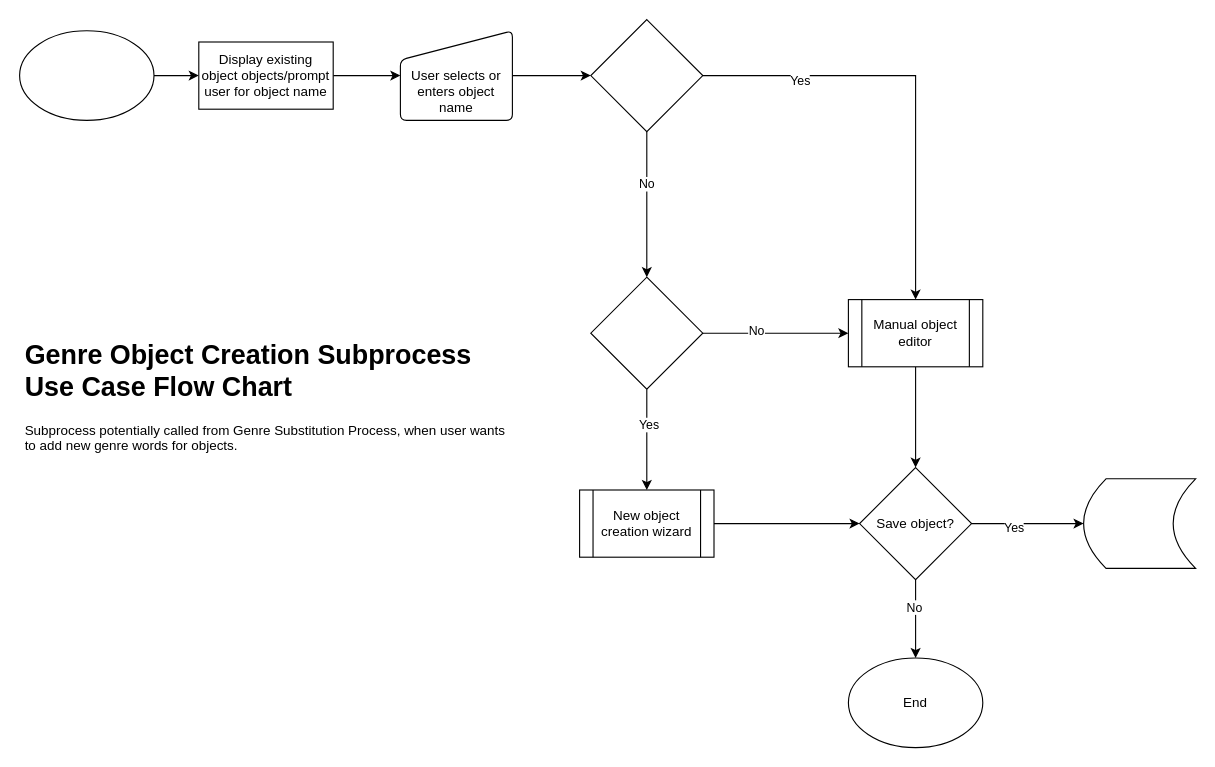
The diagram is 1215 pixels wide and 767 high, and some of its shapes have lost their labels. Each missing label, with the box of its shape:
Does object exist?: (590, 18, 703, 132)
Start: (18, 30, 154, 120)
Use wizard?: (590, 276, 703, 389)
